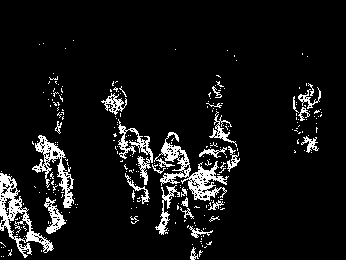person: (1, 171, 53, 259), (33, 133, 77, 235), (186, 152, 227, 260), (153, 130, 194, 237), (114, 127, 154, 228), (207, 119, 238, 210), (292, 84, 323, 156), (44, 72, 67, 136), (101, 77, 127, 130), (207, 75, 226, 137)
